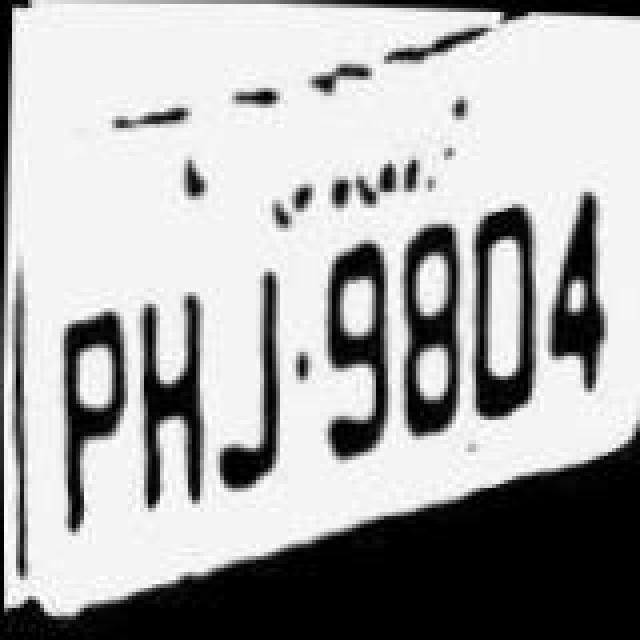4: (532, 166, 616, 434)
8: (390, 208, 470, 484)
9: (304, 236, 384, 520)
H: (122, 260, 206, 536)
J: (208, 266, 288, 534)
O: (466, 168, 546, 448)
P: (42, 268, 130, 540)
